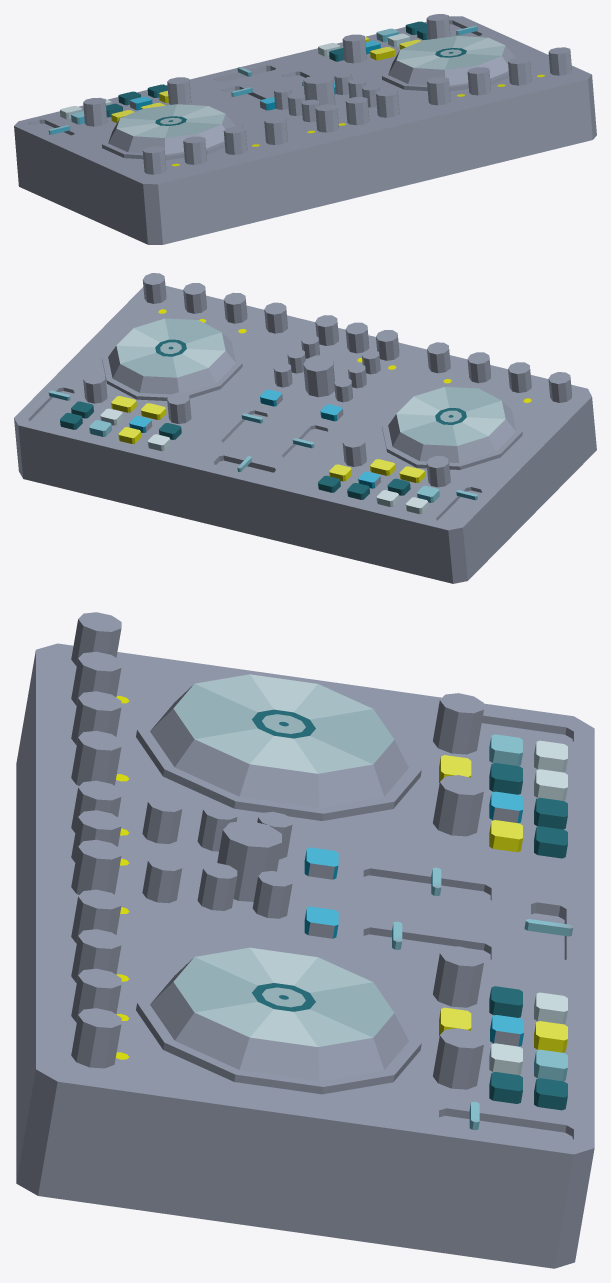
Rendered from TurntableIdleFloat.fbx.
3 renders of one model, top to bottom at view 1: azimuth 30°, elevation 25°; view 2: azimuth 150°, elevation 25°; view 3: azimuth 270°, elevation 25°, orthographic. The views are drawn at different scales.
Parts seen in each view (by area): view 1: Turntable; view 2: Turntable; view 3: Turntable.
Boxes of the visible parts, bbox=[...] form: Turntable: bbox=[14, 14, 596, 244]; Turntable: bbox=[14, 273, 596, 583]; Turntable: bbox=[16, 612, 594, 1268].
Size of the model in its own units: 8.53 by 2.14 by 4.76.
